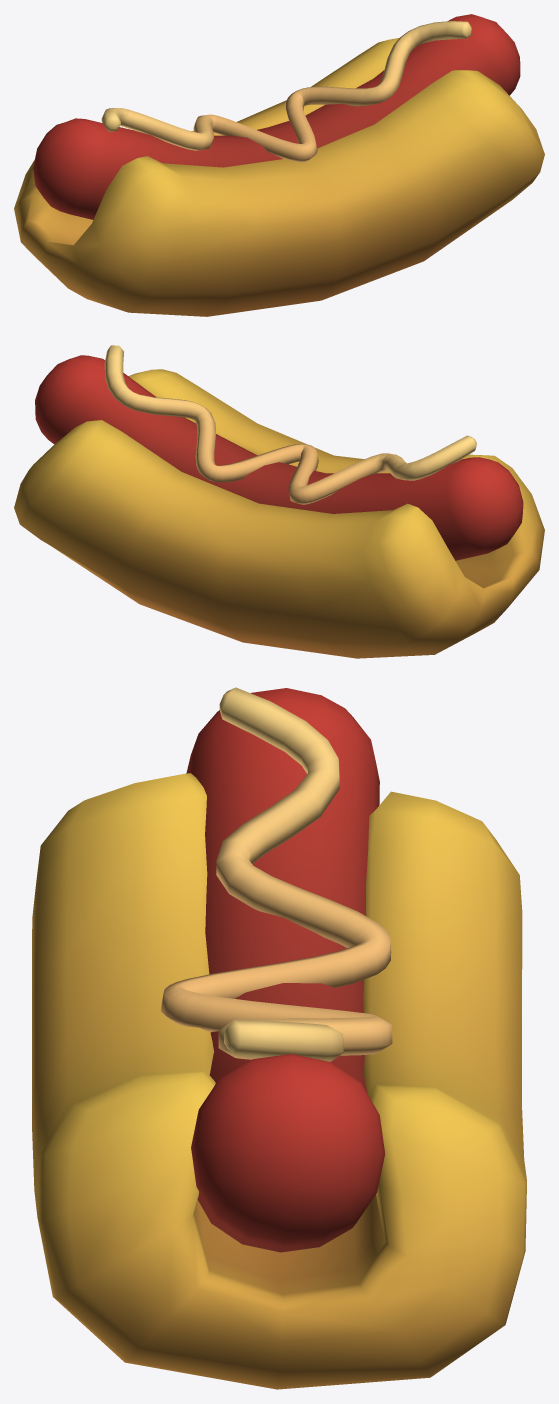
File: lpb_food_hotdog.fbx
The picture shows the model from 3 angles, top to bottom: view 1: azimuth 30°, elevation 25°; view 2: azimuth 150°, elevation 25°; view 3: azimuth 270°, elevation 25°; orthographic projection. The views are drawn at different scales.
Parts seen in each view (by area): view 1: hotdog; view 2: hotdog; view 3: hotdog.
Part boxes in pixels (box(x1,y1,x2,y2)): hotdog: box(14, 14, 544, 316); hotdog: box(14, 345, 544, 658); hotdog: box(32, 687, 526, 1389).
Bounding box in the file's own units: 59.77 × 27.55 × 27.06.
